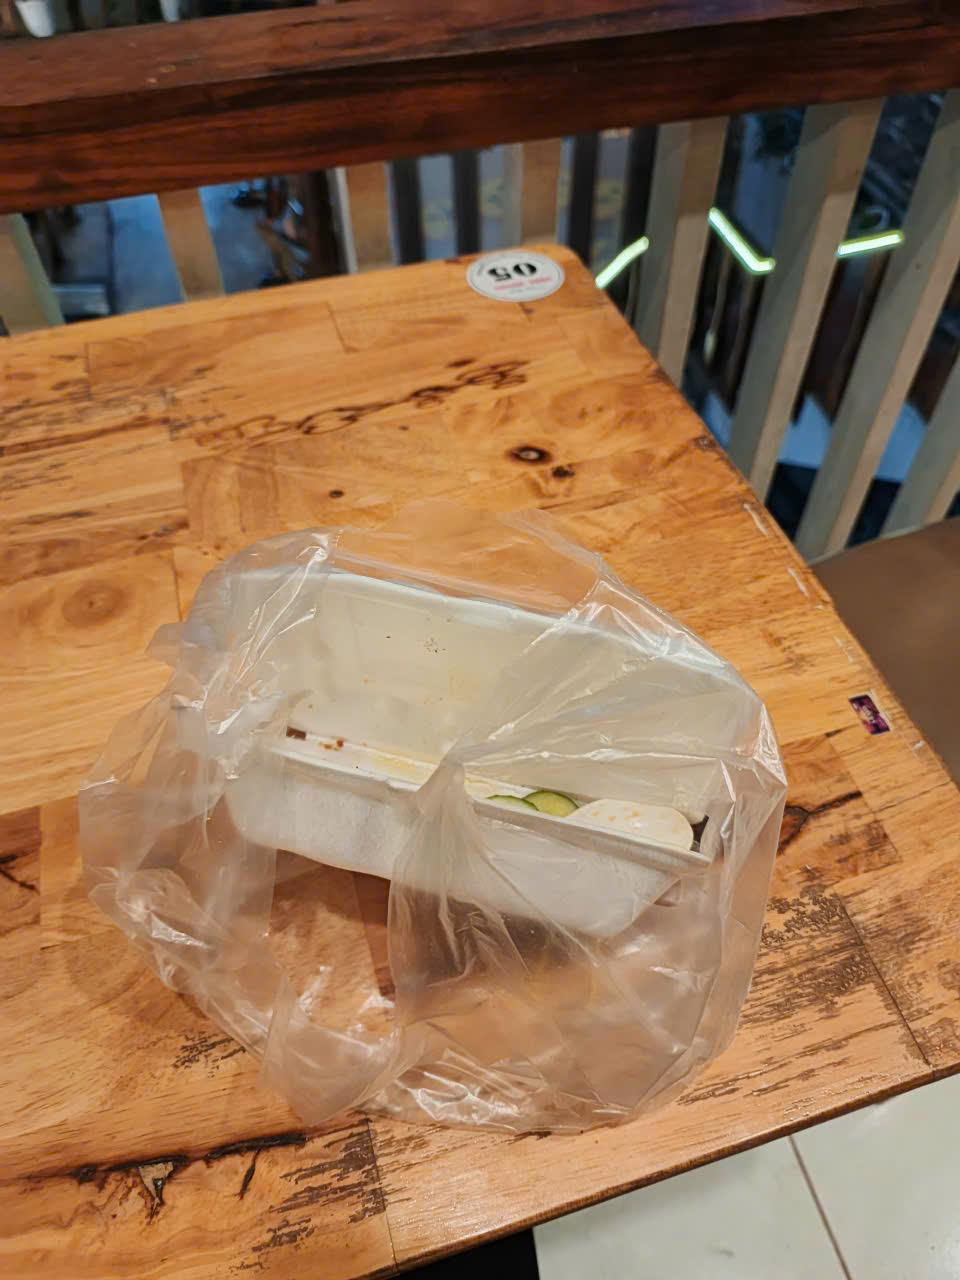Con lai: (80, 506, 781, 1101)
